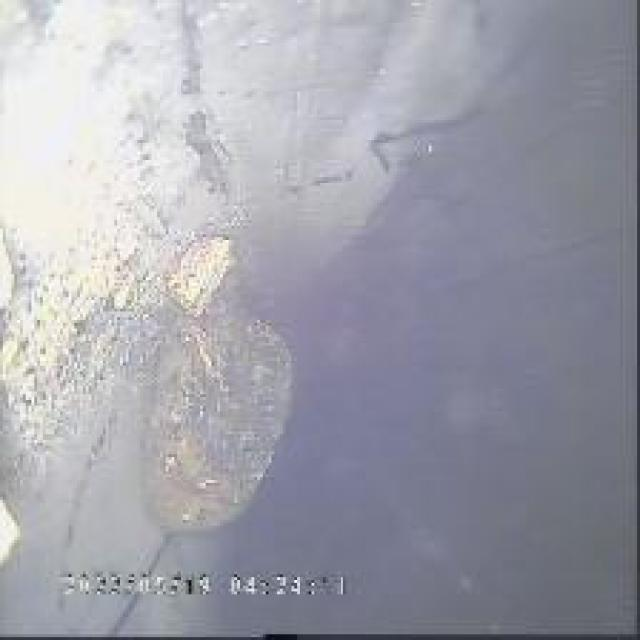stone: (128, 297, 292, 540)
